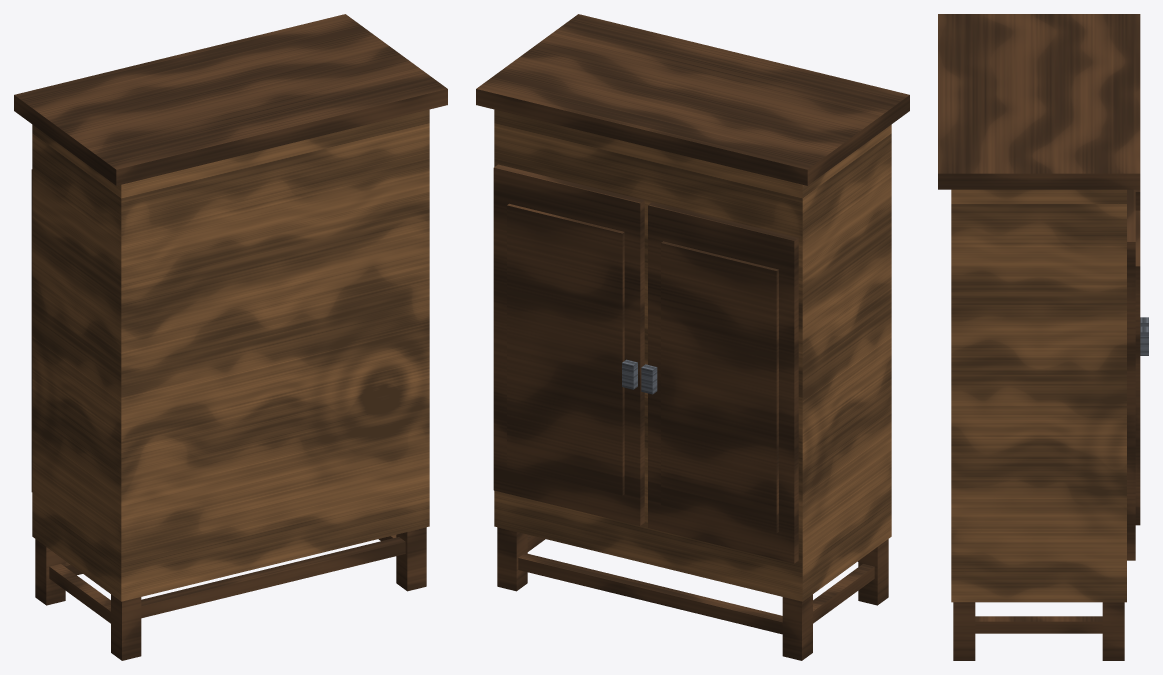
File: cupboard.fbx
3 renders of one model, left to right at view 1: azimuth 30°, elevation 25°; view 2: azimuth 150°, elevation 25°; view 3: azimuth 270°, elevation 25°, orthographic.
Parts seen in each view (by area): view 1: cupboard; view 2: cupboard; view 3: cupboard.
Part boxes in pixels (x1,y1,x2,y2): cupboard: (14, 14, 447, 660); cupboard: (476, 14, 909, 660); cupboard: (938, 14, 1148, 660).
Size of the model in its own units: 86 by 124 by 48.
